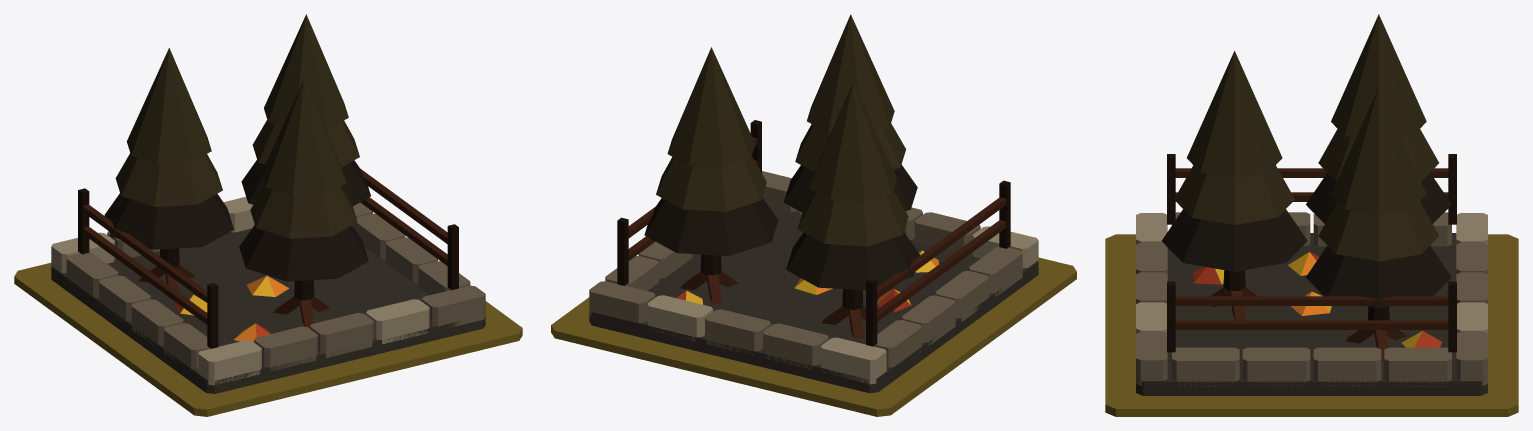
The model's file is whisper-grove_t3.glb.
The picture shows the model from 3 angles, left to right: view 1: azimuth 30°, elevation 25°; view 2: azimuth 150°, elevation 25°; view 3: azimuth 270°, elevation 25°; orthographic projection. The views are drawn at different scales.
Visible parts, largest first — view 1: MMR | whisper-grove | T03 Architecture.001, MMR | whisper-grove | Tier 03 Ground.001, MMR | whisper-grove | T03 Autumn Dressing.001; view 2: MMR | whisper-grove | T03 Architecture.001, MMR | whisper-grove | Tier 03 Ground.001, MMR | whisper-grove | T03 Autumn Dressing.001; view 3: MMR | whisper-grove | T03 Architecture.001, MMR | whisper-grove | Tier 03 Ground.001, MMR | whisper-grove | T03 Autumn Dressing.001.
Boxes of the visible parts, x1,y1,x2,y2 form: MMR | whisper-grove | T03 Architecture.001: [51, 14, 485, 393]; MMR | whisper-grove | Tier 03 Ground.001: [14, 262, 522, 416]; MMR | whisper-grove | T03 Autumn Dressing.001: [174, 275, 288, 341]; MMR | whisper-grove | T03 Architecture.001: [589, 14, 1038, 393]; MMR | whisper-grove | Tier 03 Ground.001: [551, 257, 1076, 416]; MMR | whisper-grove | T03 Autumn Dressing.001: [676, 250, 938, 312]; MMR | whisper-grove | T03 Architecture.001: [1136, 14, 1487, 395]; MMR | whisper-grove | Tier 03 Ground.001: [1105, 234, 1518, 416]; MMR | whisper-grove | T03 Autumn Dressing.001: [1193, 252, 1441, 347].
Size of the model in its own units: 2.35 by 1.75 by 2.35.
1 material, 1 textured.
